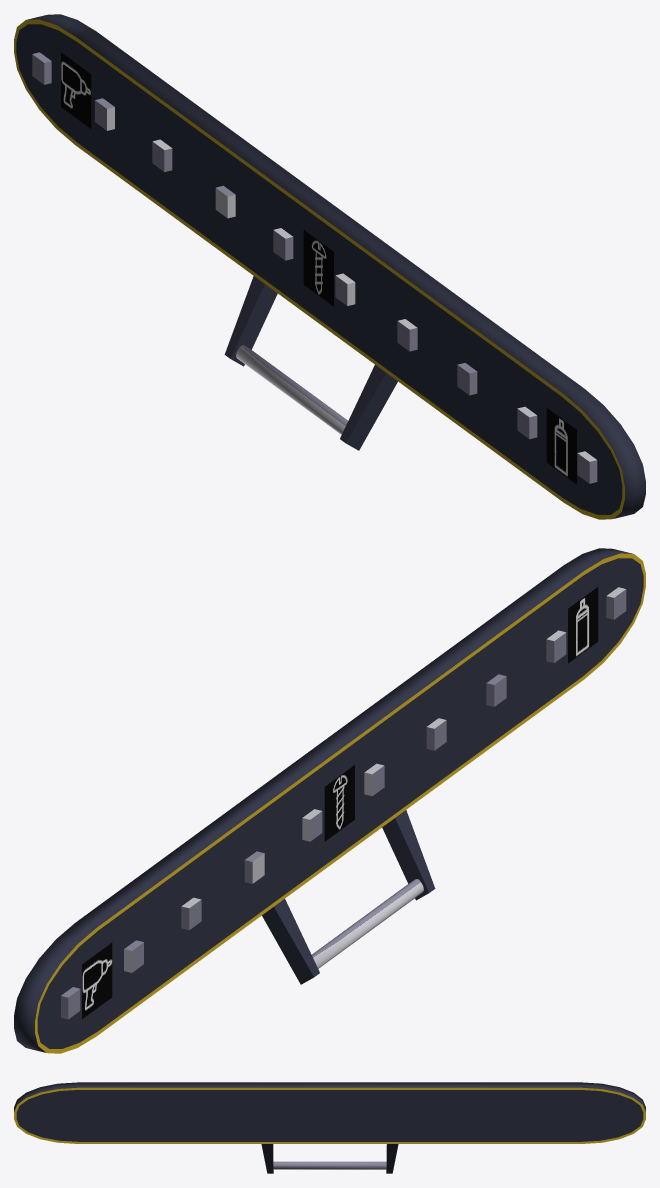
Rendered from toolBelt.fbx.
The picture shows the model from 3 angles, top to bottom: view 1: azimuth 30°, elevation 25°; view 2: azimuth 150°, elevation 25°; view 3: azimuth 270°, elevation 25°; orthographic projection. The views are drawn at different scales.
Visible parts, largest first — view 1: AttachPoint.001; view 2: AttachPoint.001; view 3: AttachPoint.001.
Part boxes in pixels (left/top/right/bottom): AttachPoint.001: left=14, top=14, right=645, bottom=519; AttachPoint.001: left=14, top=548, right=645, bottom=1053; AttachPoint.001: left=14, top=1082, right=645, bottom=1173.
Bounding box in the file's own units: 7.08 × 22.76 × 135.
